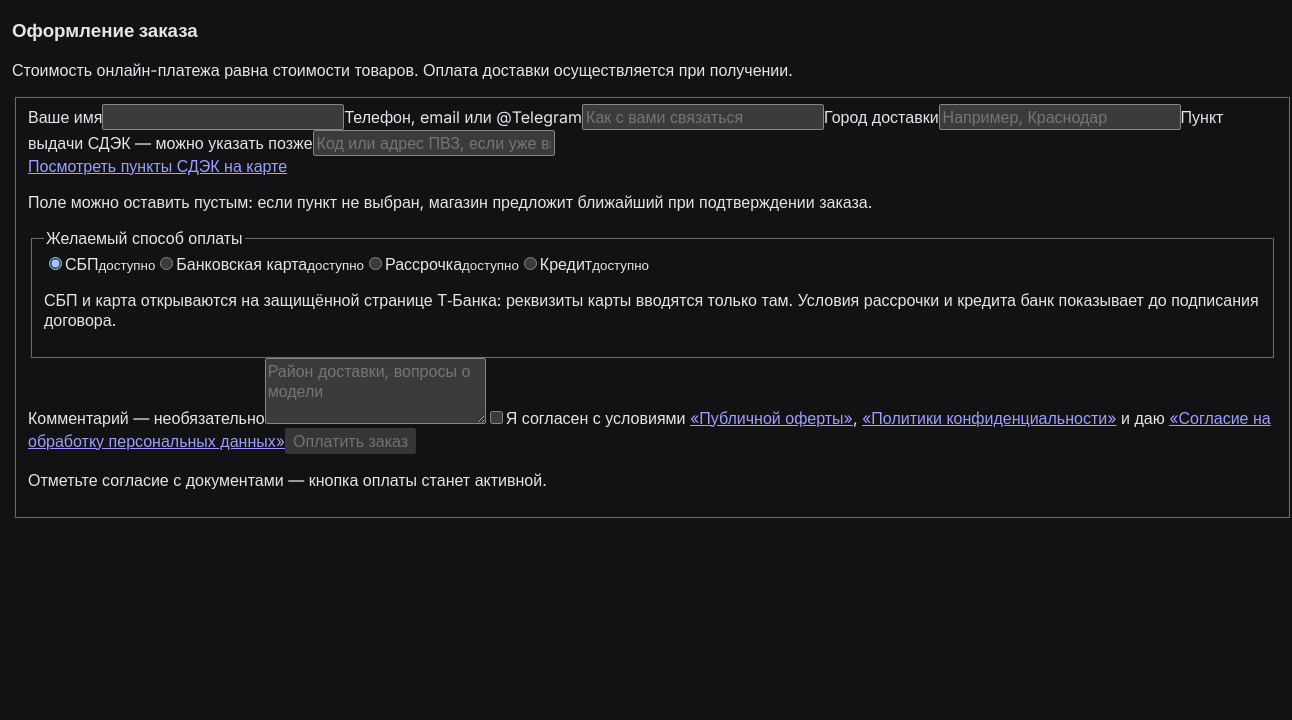
Scenario: customer account › refuses to send an order without a destination city
Type "Борис" into the field labelled "Ваше имя".
click(223, 117); type("Борис")  # box [102, 104, 344, 130]
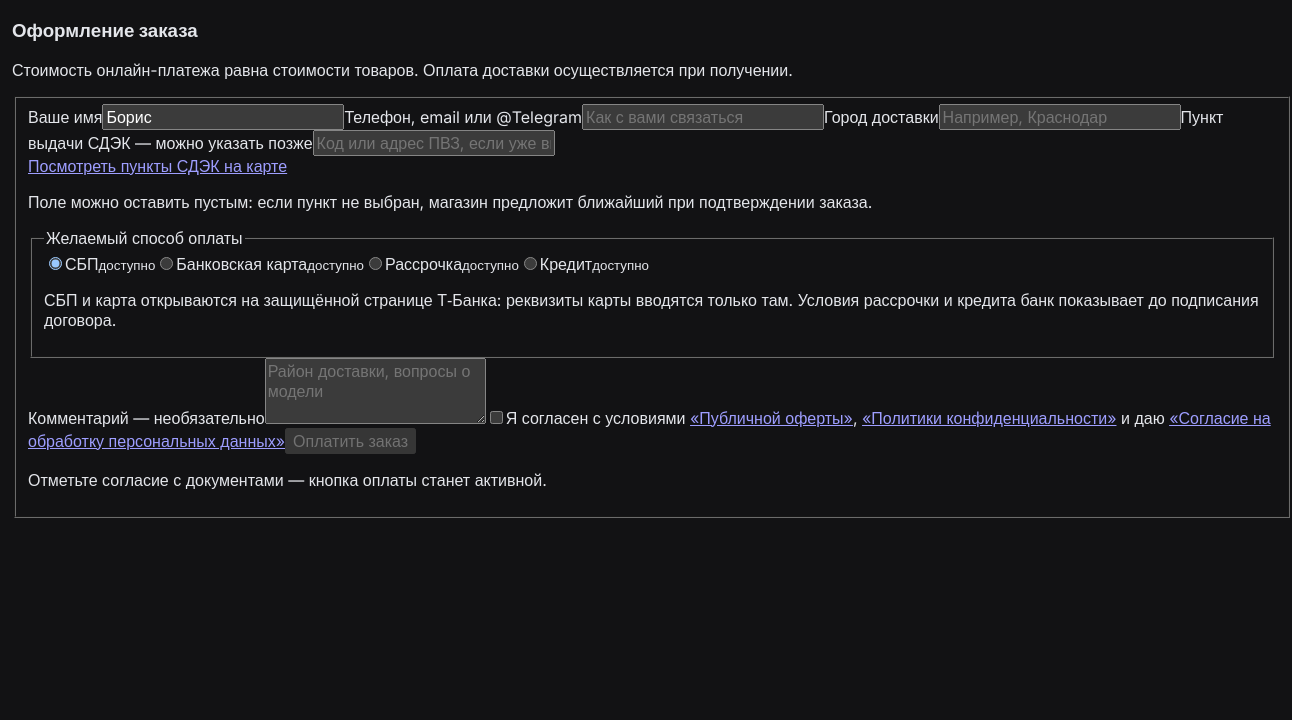
Type "+79001234567" into the field labelled "Телефон, email или @Telegram".
click(703, 117); type("+79001234567")  # box [582, 104, 824, 130]
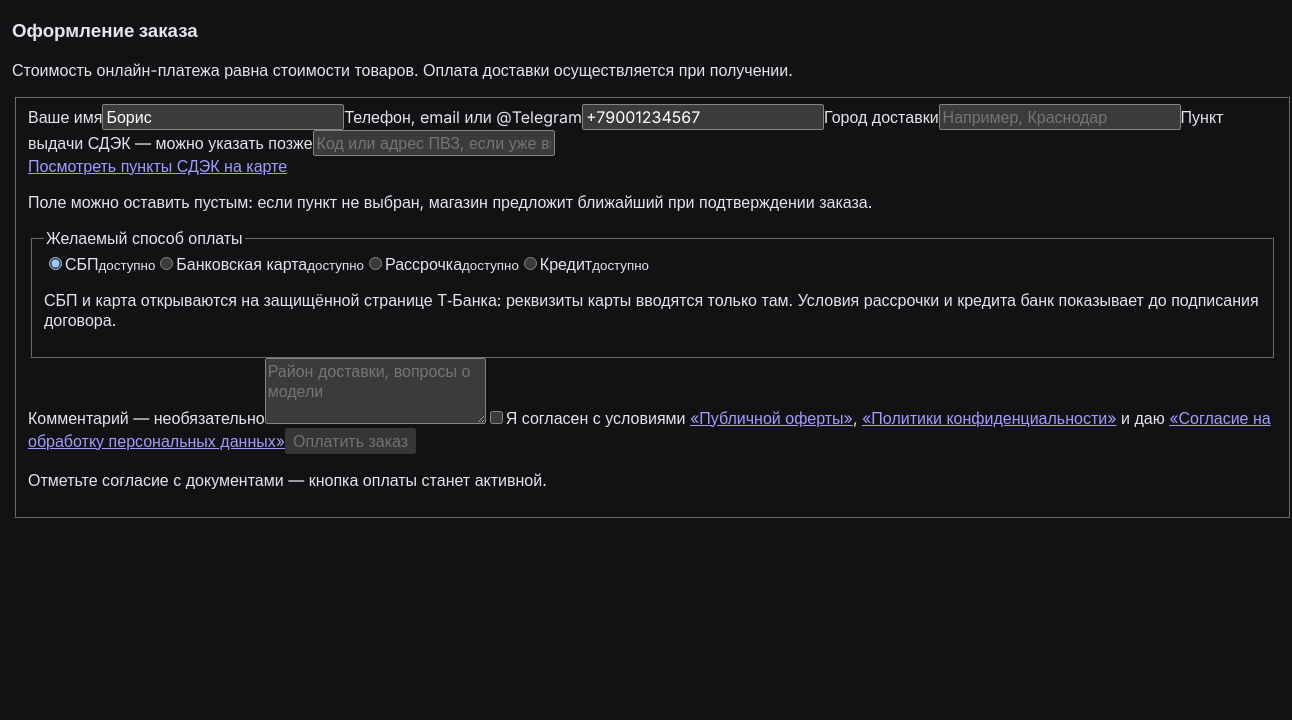
Click the checkbox.
click(496, 417)  # box [490, 411, 503, 424]
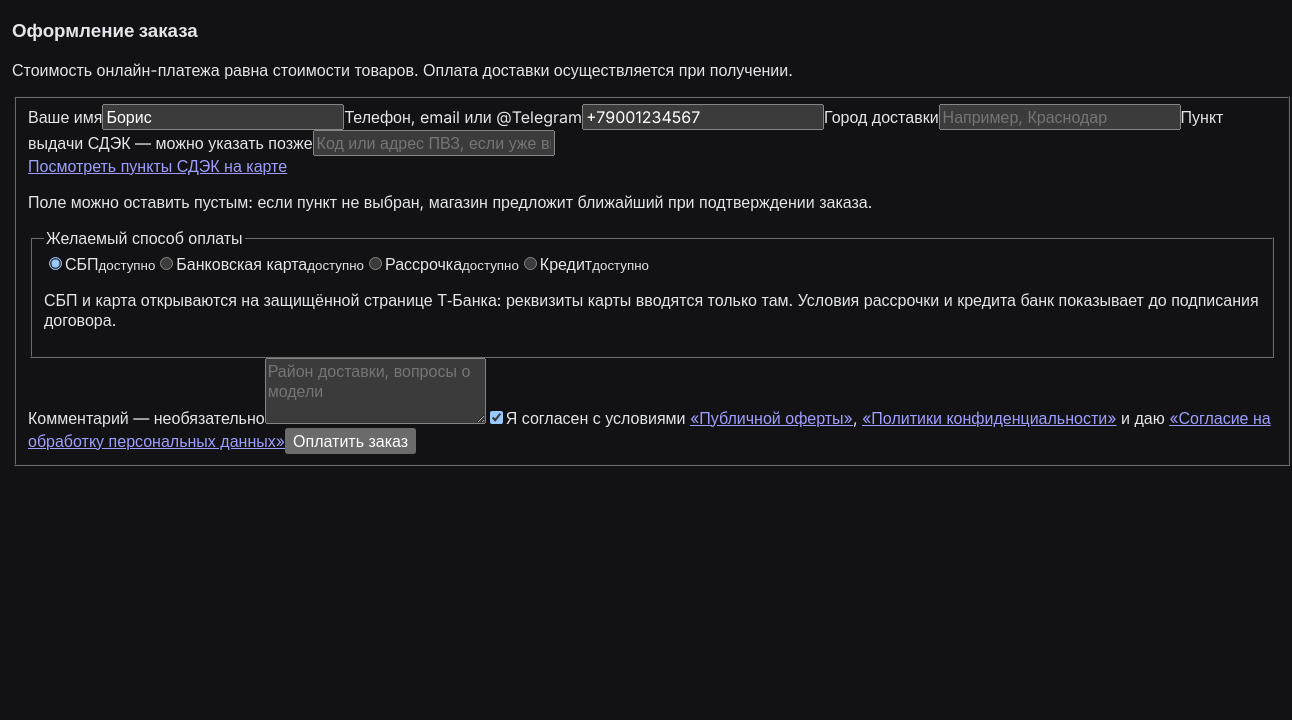
Submit the form named "Заявка в магазин"
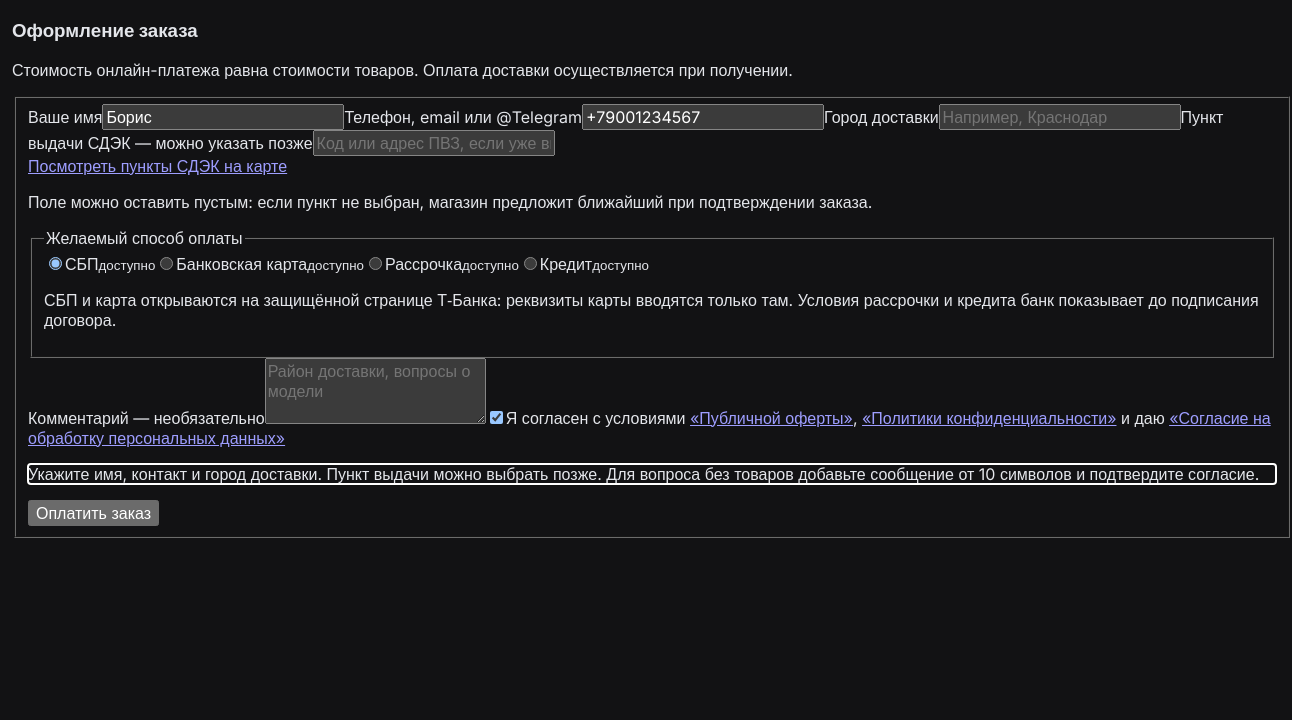
Now the message shows "город доставки", box [28, 464, 1259, 484]
